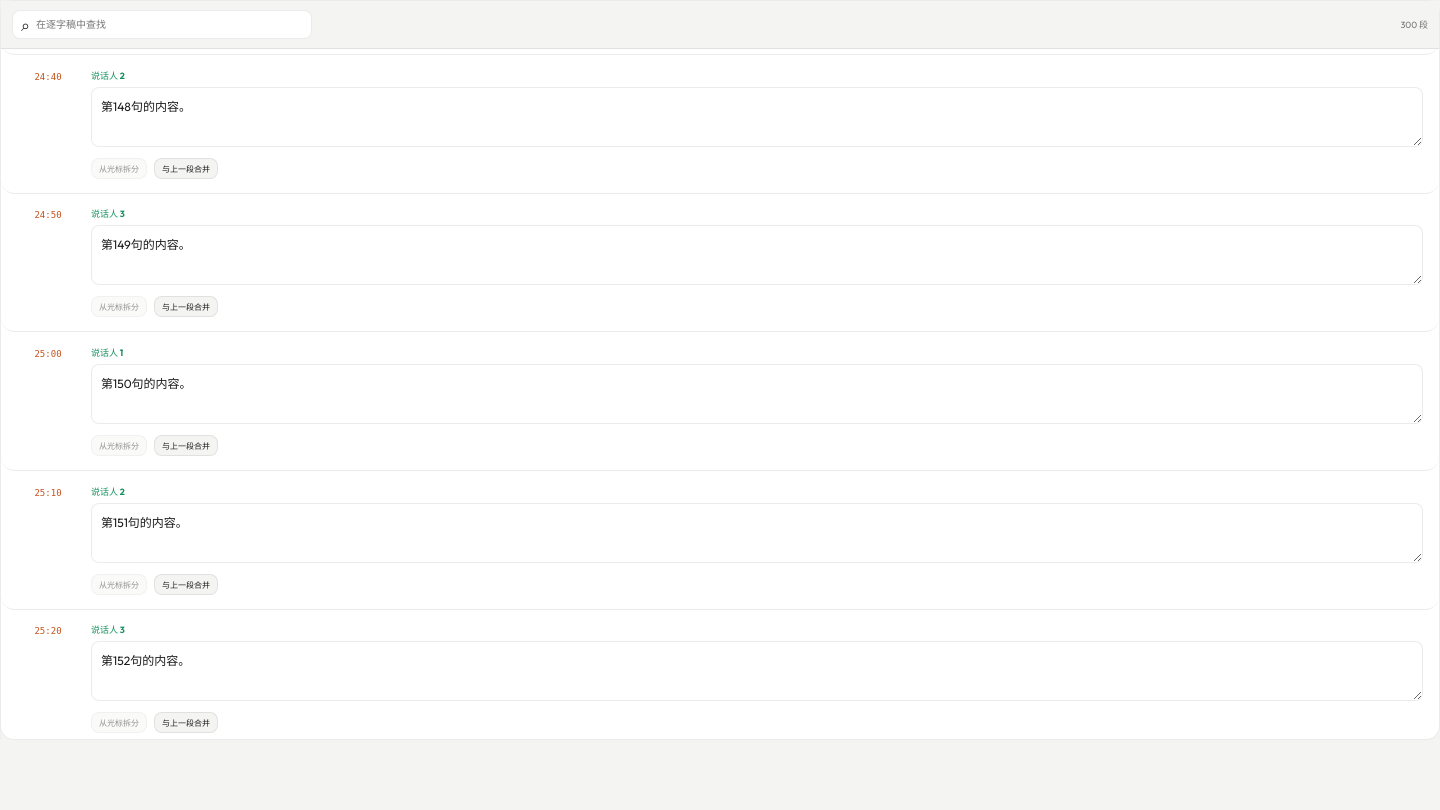
it: TranscriptPanel 只重画变了的行 › 编辑时敲一个字：只有这一行重新渲染，别的 299 行不动
The width and height of the screenshot is (1440, 810).
(page scrolled)
Type "字" into the text box named "25:00 逐字稿". click: (757, 394)
box: [91,364,1423,424]
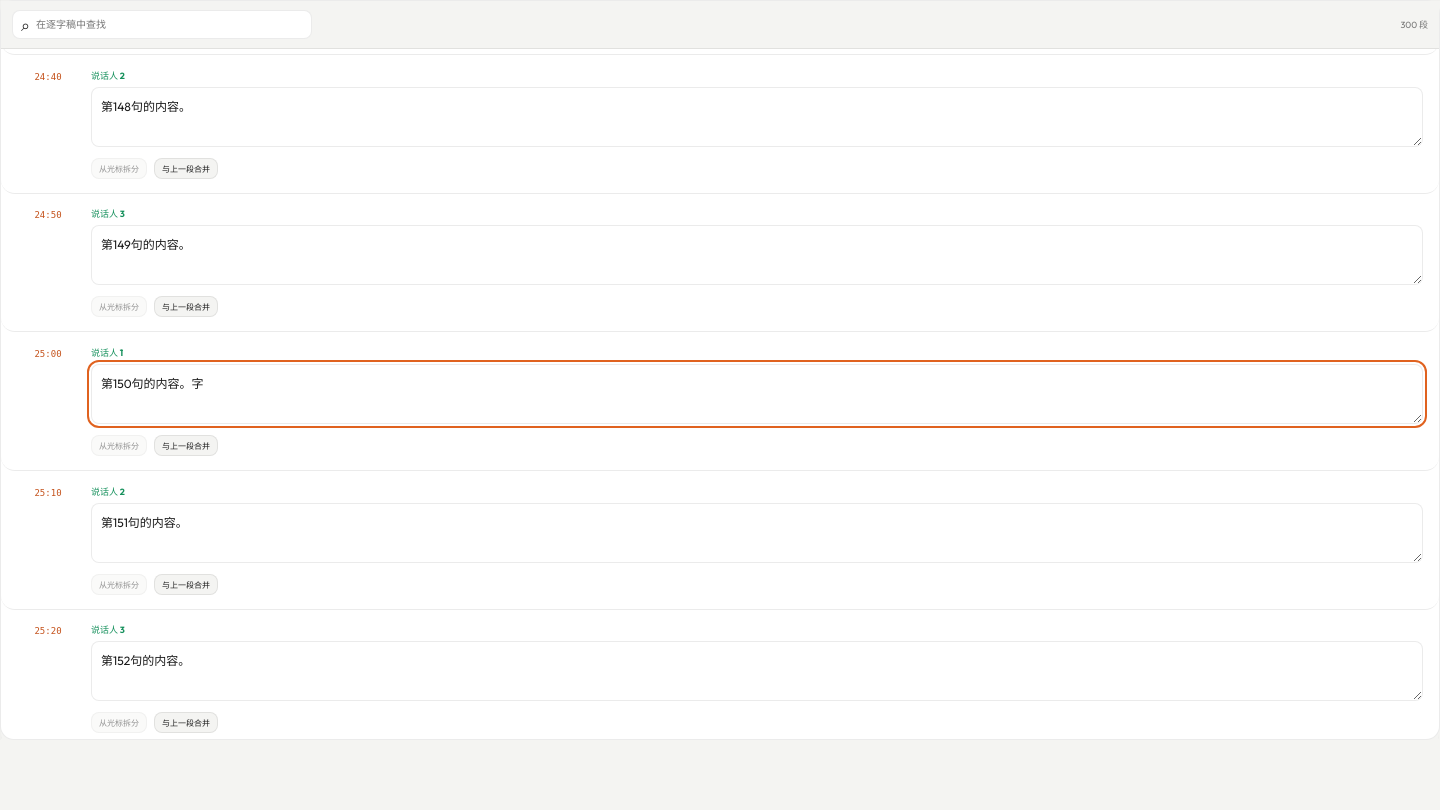
Now the text box named "25:00 逐字稿" holds "第150句的内容。字", box [91,364,1423,424]
